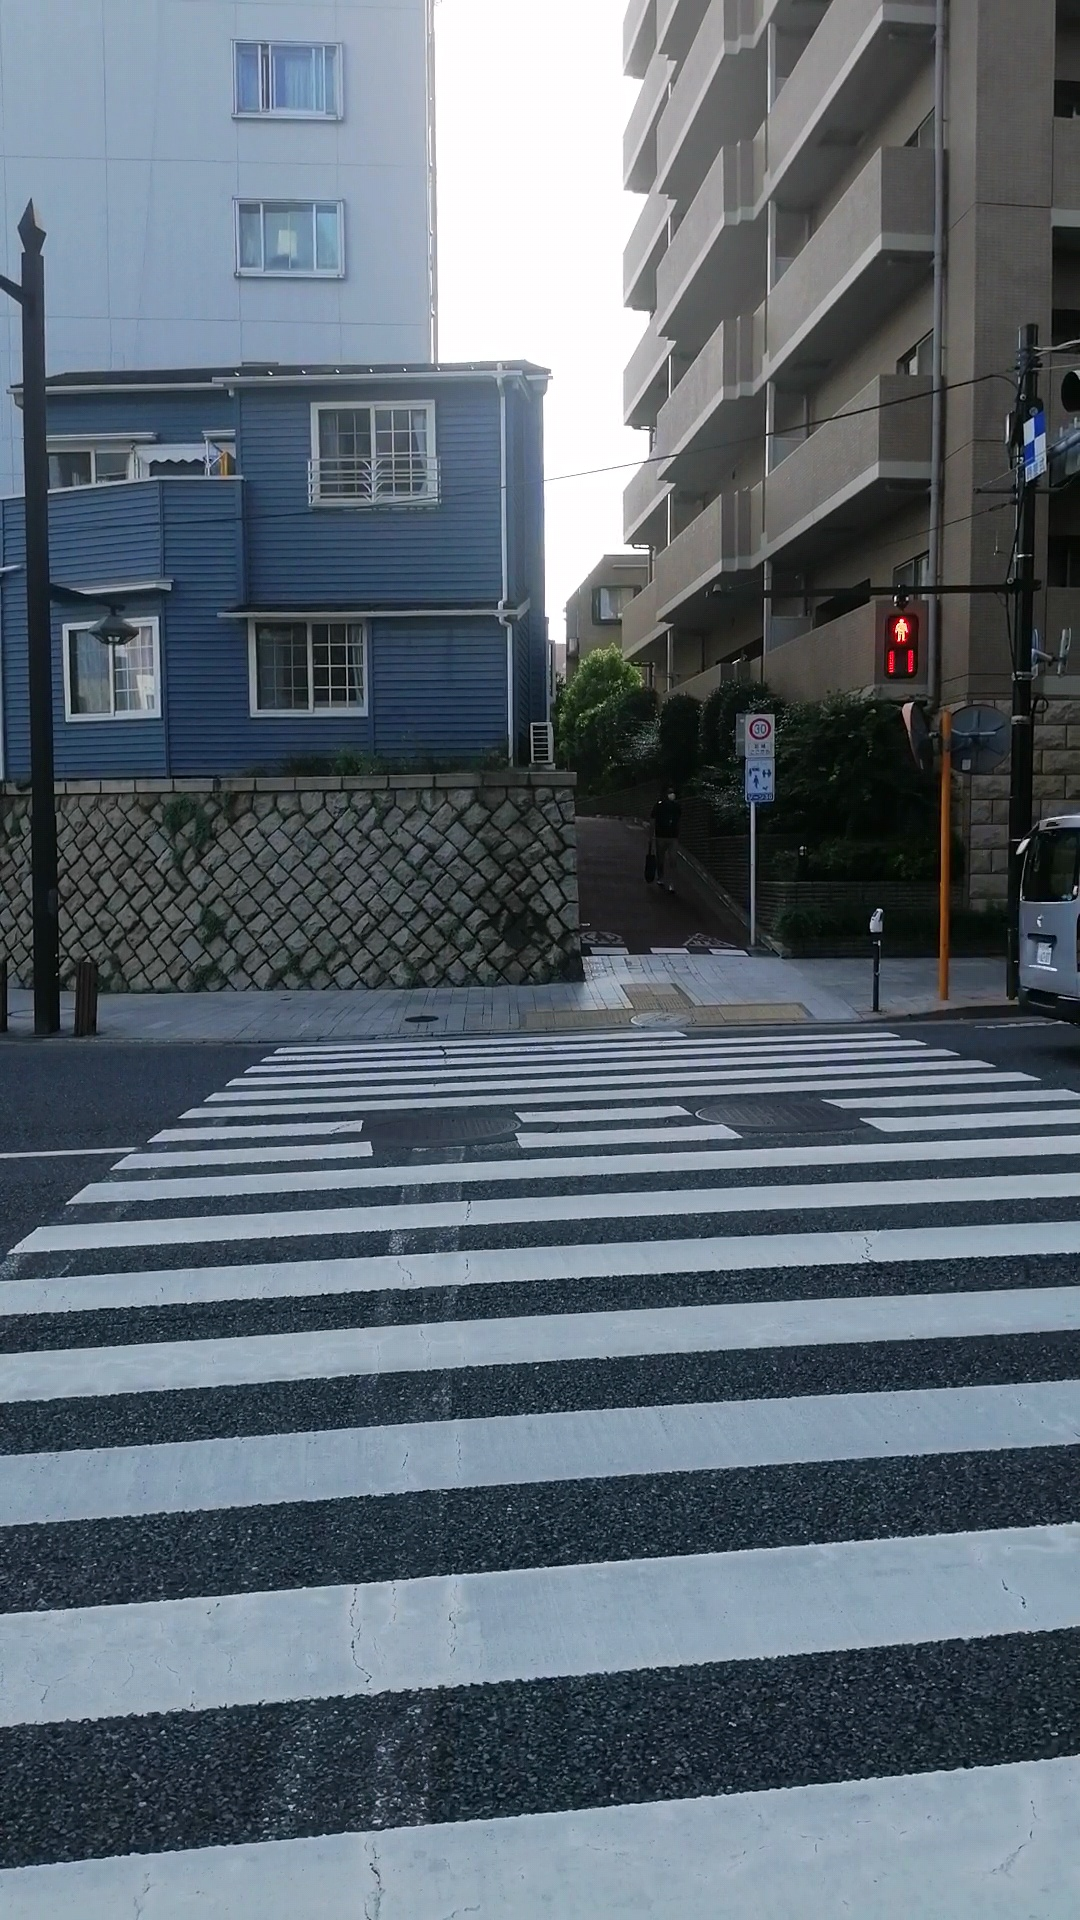red: (882, 615, 918, 678)
